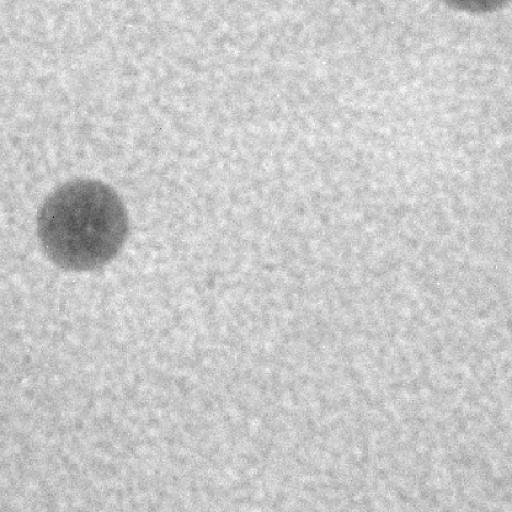Nanoparticles: (38, 178, 128, 275), (445, 0, 511, 18)
